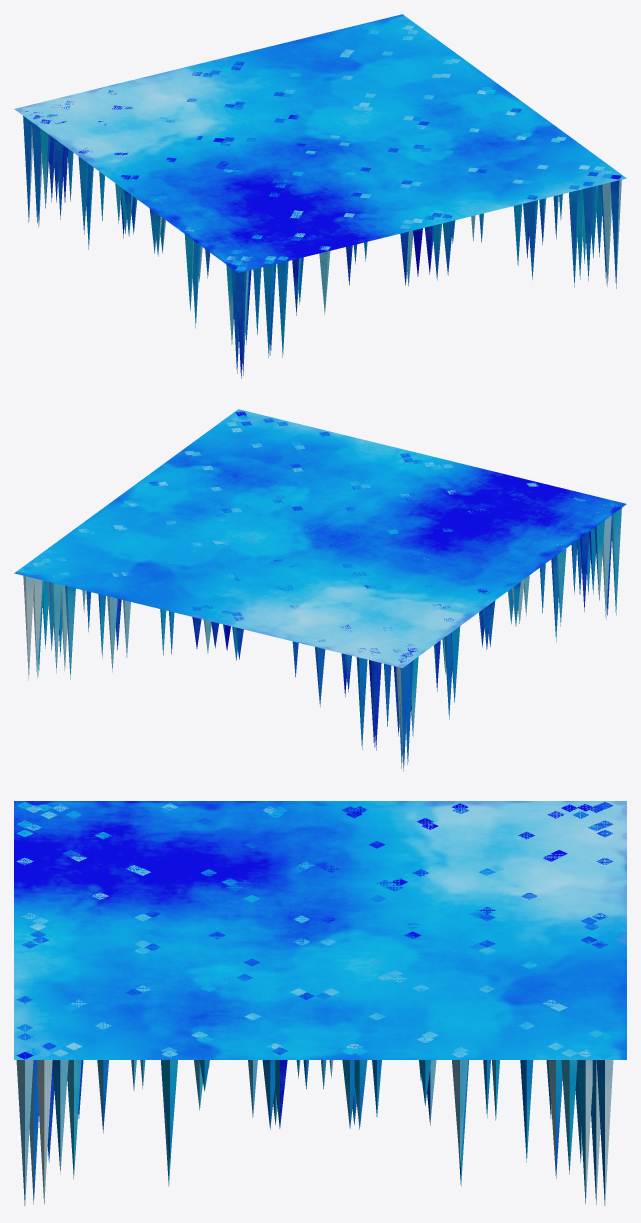
File: Ice_ceiling.obj
3 renders of one model, top to bottom at view 1: azimuth 30°, elevation 25°; view 2: azimuth 150°, elevation 25°; view 3: azimuth 270°, elevation 25°, orthographic. The views are drawn at different scales.
Visible parts, largest first — view 1: ceiling; view 2: ceiling; view 3: ceiling.
Part boxes in pixels (left/top/right/bottom): ceiling: left=14, top=14, right=626, bottom=378; ceiling: left=14, top=409, right=626, bottom=771; ceiling: left=14, top=801, right=626, bottom=1205.
Bounding box in the file's own units: 0.9989 × 0.2758 × 0.9989.
Materials: 1 (1 with a texture image).
